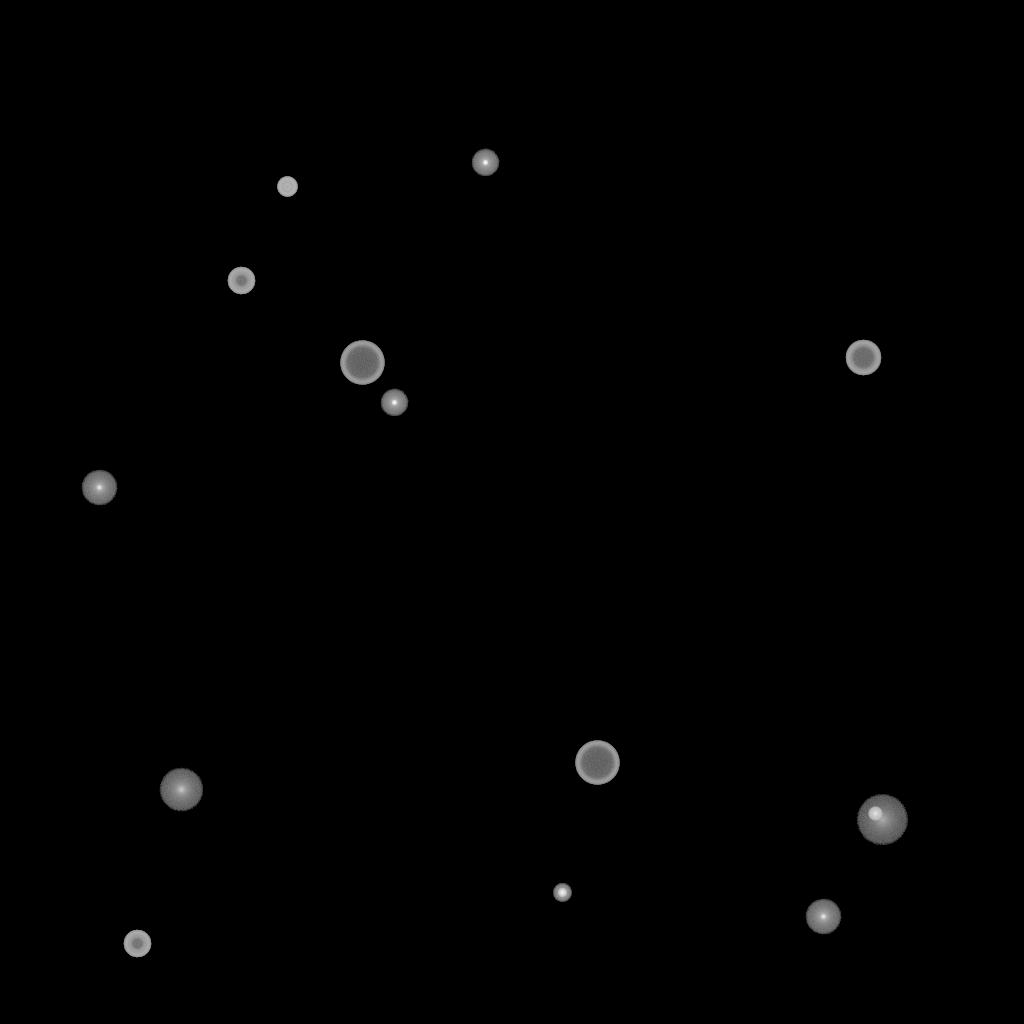depth:-10: (380, 389, 408, 417), (471, 149, 499, 177)
depth:-20: (553, 884, 571, 902)
depth:-30: (868, 807, 882, 821)
depth:-40: (277, 177, 297, 197)
depth:-50: (123, 930, 151, 958), (227, 267, 255, 295)
depth:-60: (845, 340, 881, 376)
depth:-70: (575, 741, 619, 785), (340, 341, 384, 385)
depth:0: (805, 899, 841, 935), (81, 470, 117, 506)
depth:10: (159, 768, 203, 812)
depth:20: (856, 795, 908, 845)
